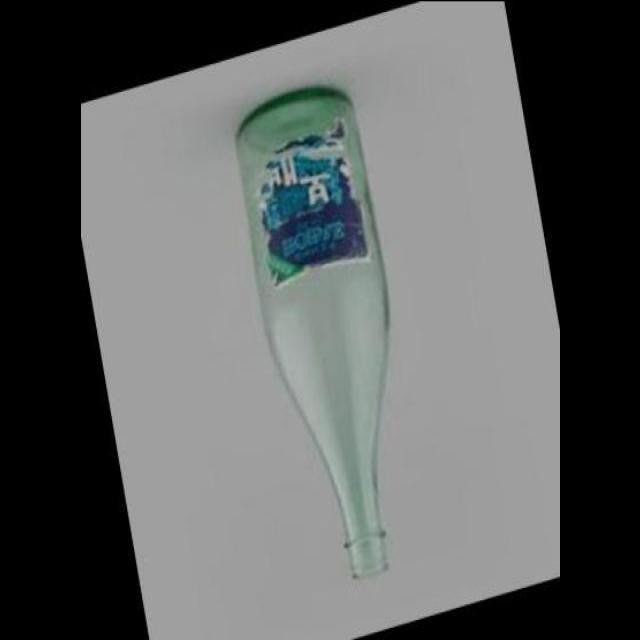Glass: (225, 70, 402, 614)
